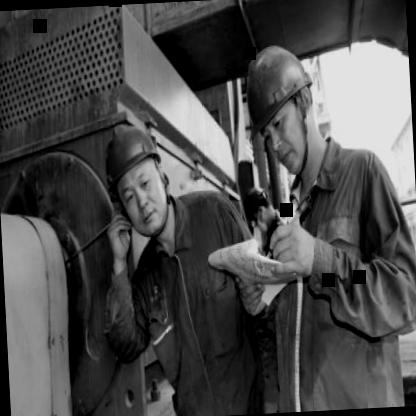helmet: (232, 33, 326, 184), (95, 113, 171, 242), (240, 184, 269, 226)
